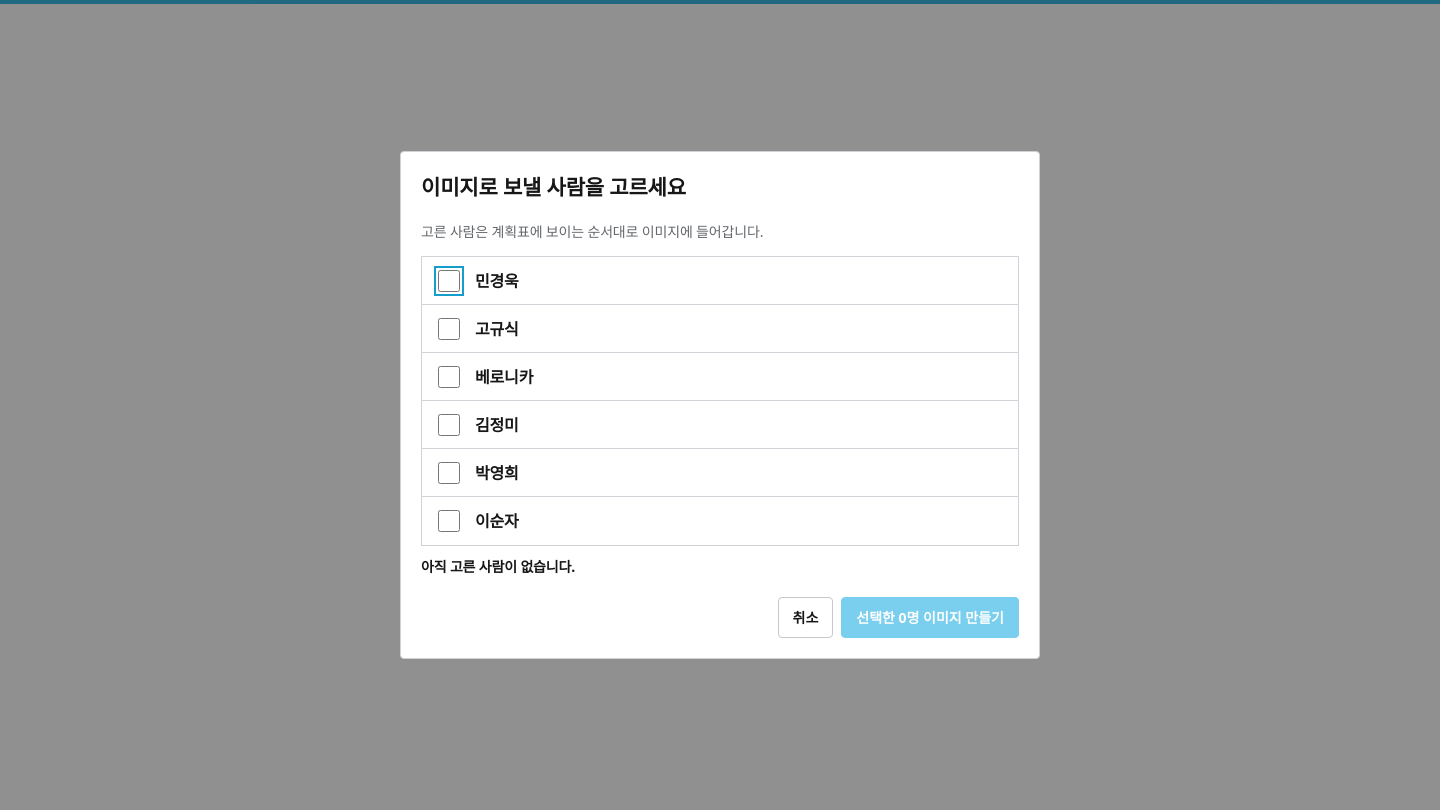
Scenario: ManualPlanImageDialog › shows creation errors and keeps cancellation unavailable while generating
Click the checkbox labelled "민경욱".
click(449, 281)  # box [438, 270, 460, 292]
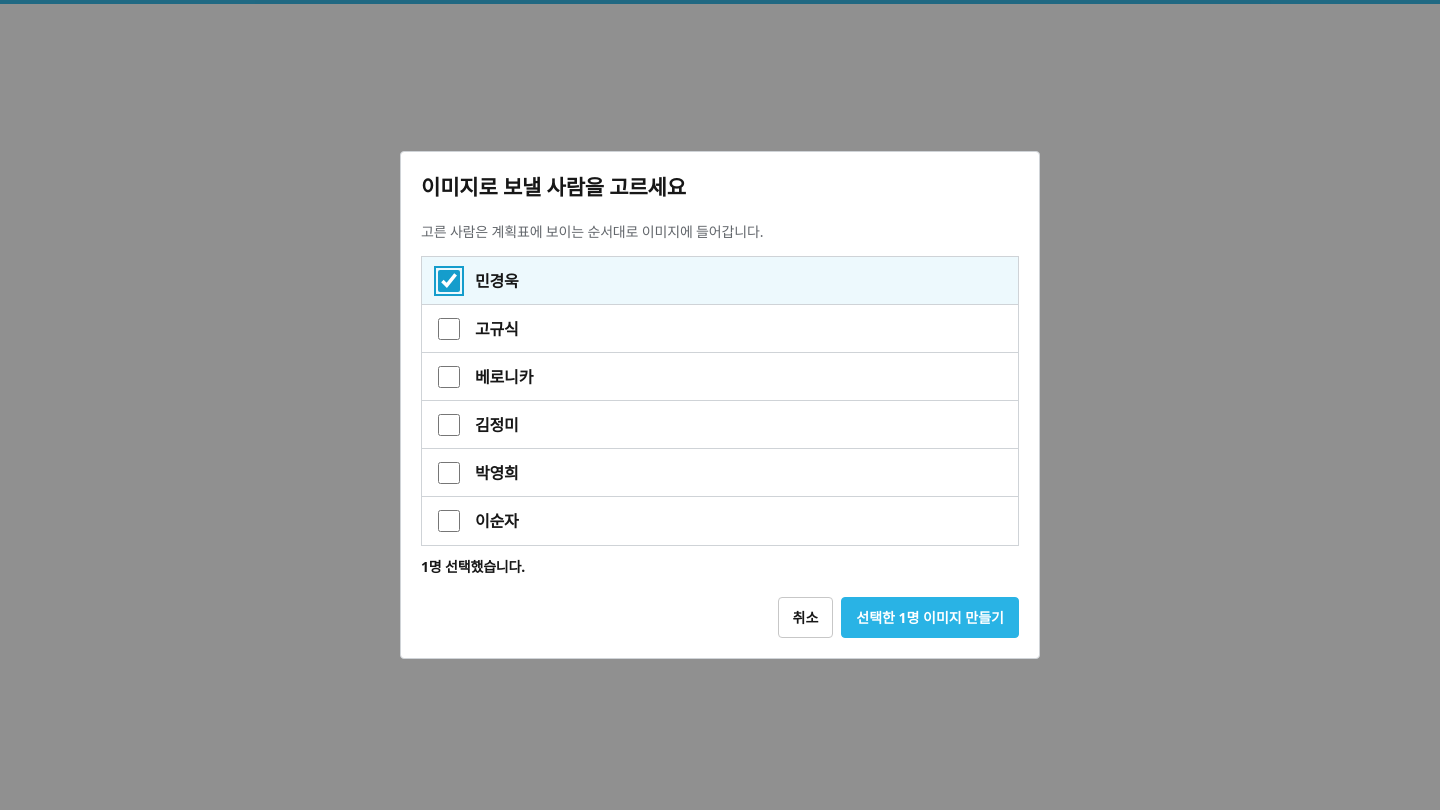
Click the button "선택한 1명 이미지 만들기".
click(930, 618)  # box [841, 597, 1019, 638]
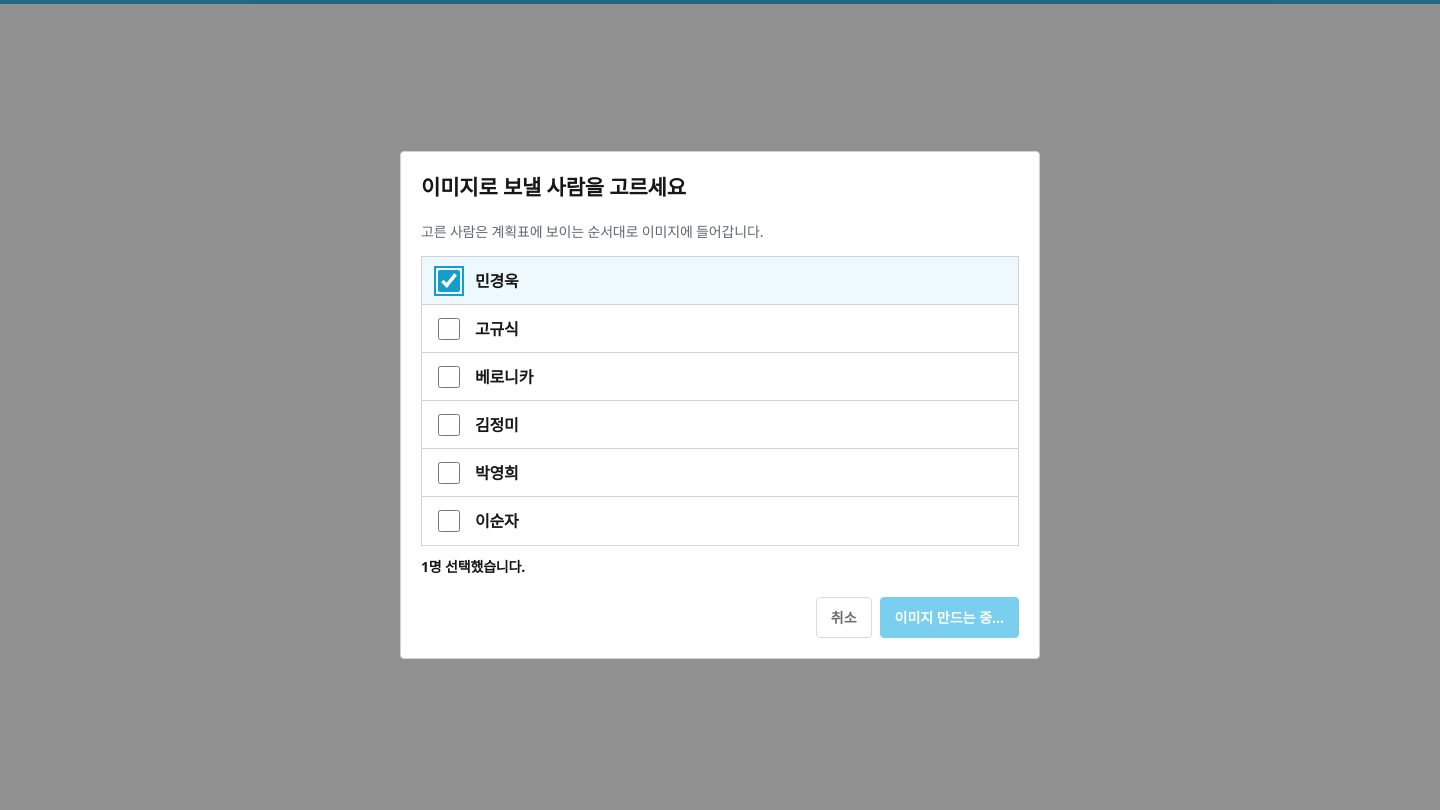
Check: the button "이미지 만드는 중…" is shown, box [880, 597, 1019, 638]
Press Escape
Press the mouse on the element with class "dialog-backdrop" at (720, 405), box [0, 0, 1439, 809]
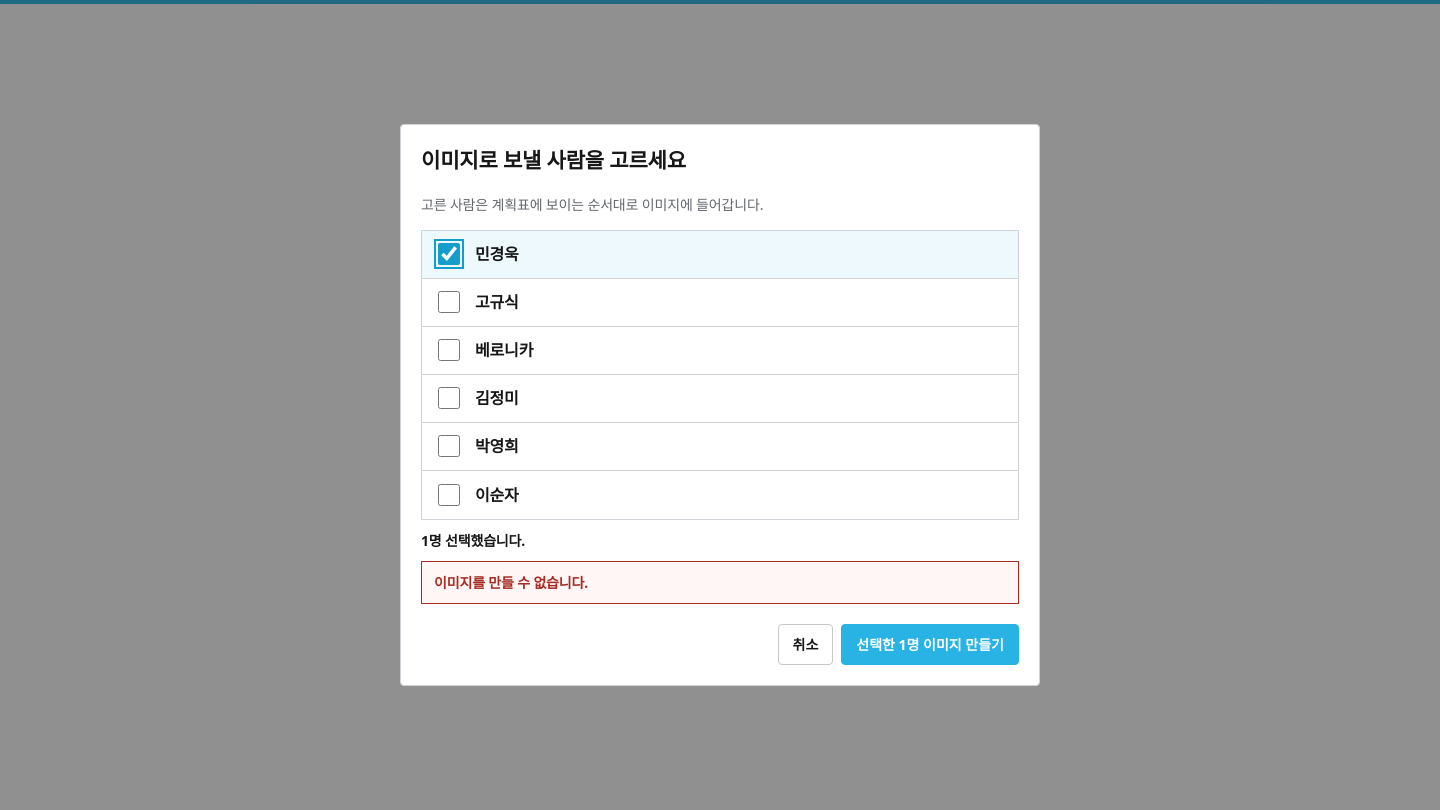
Check: the message reads "이미지를 만들 수 없습니다.", box [434, 573, 588, 592]
Check: the button "선택한 1명 이미지 만들기" is shown, box [841, 624, 1019, 665]
